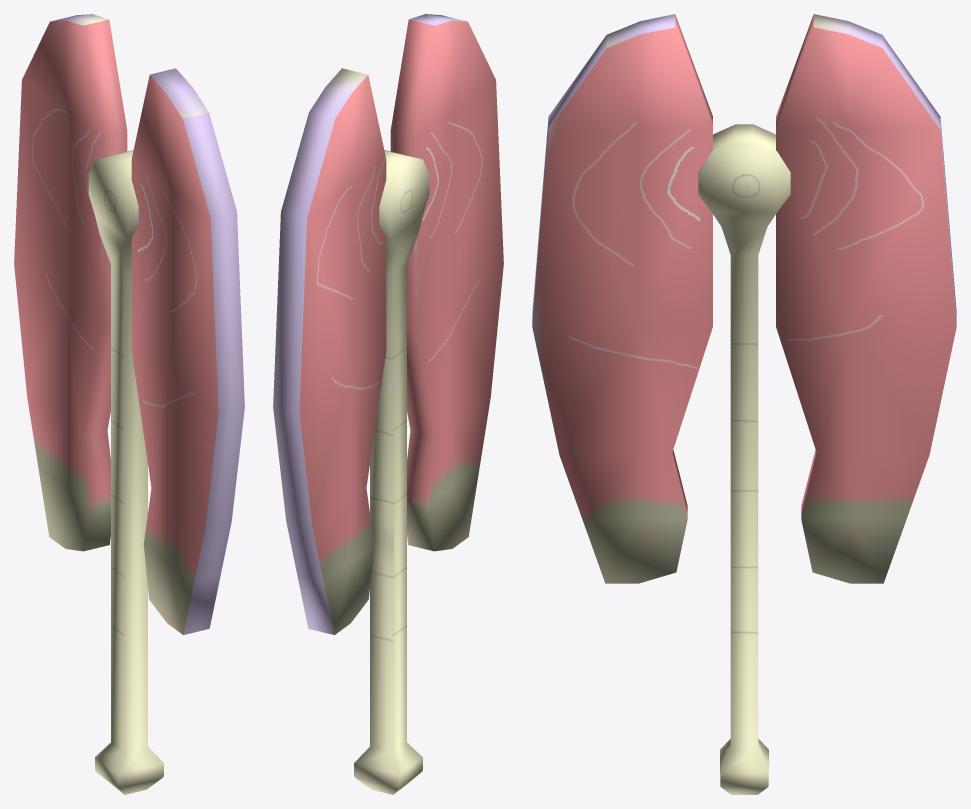
The model's file is hammer.obj.
3 views of the same model, side by side, from view 1: azimuth 30°, elevation 25°; view 2: azimuth 150°, elevation 25°; view 3: azimuth 270°, elevation 25° (orthographic). The views are drawn at different scales.
Parts seen in each view (by area): view 1: Cube.002; view 2: Cube.002; view 3: Cube.002.
Boxes of the visible parts, x1=… form: Cube.002: x1=14, y1=14, x2=244, y2=794; Cube.002: x1=273, y1=14, x2=503, y2=794; Cube.002: x1=532, y1=14, x2=956, y2=794.
Size of the model in its own units: 0.3165 by 4.88 by 2.44.
1 material, 1 textured.
